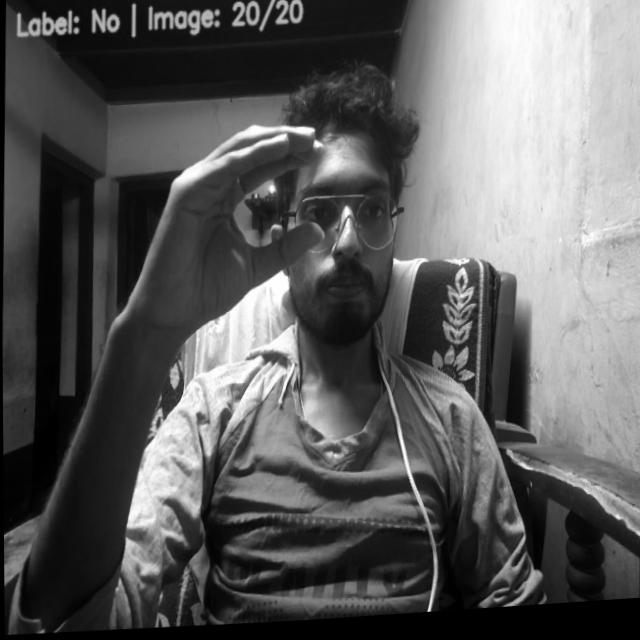No: (145, 119, 327, 343)
